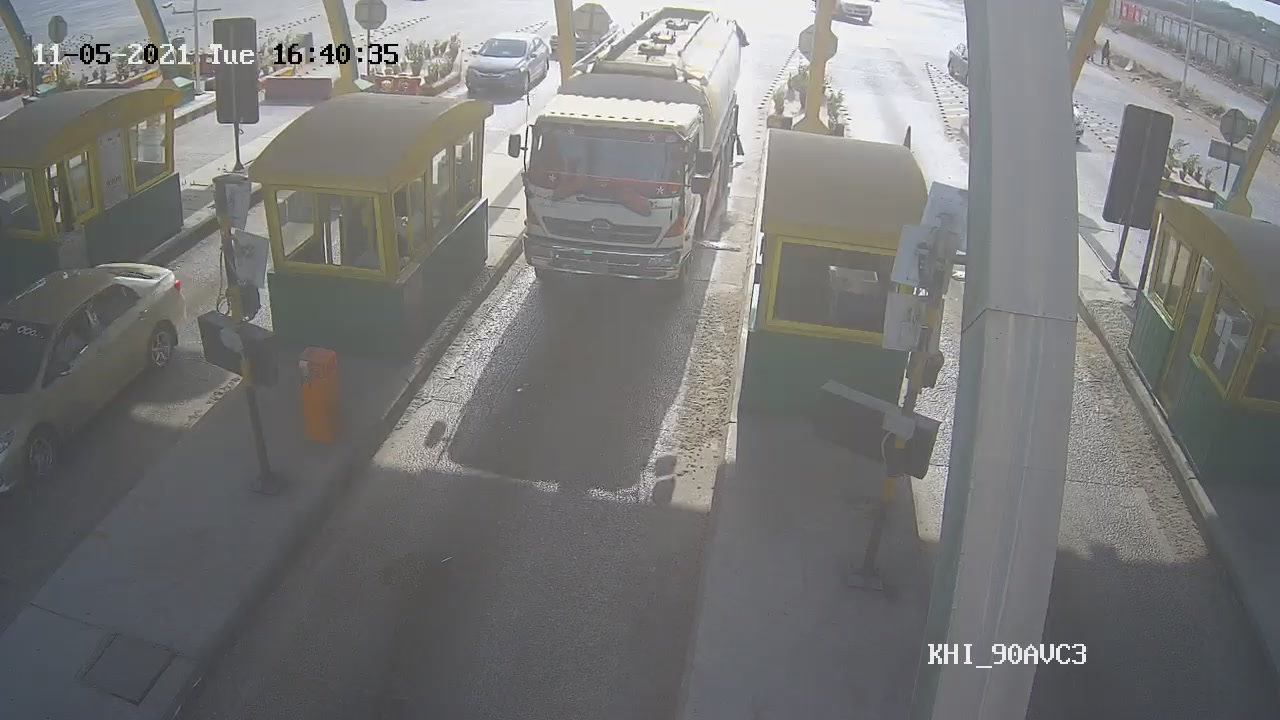F6: (509, 6, 751, 294)
